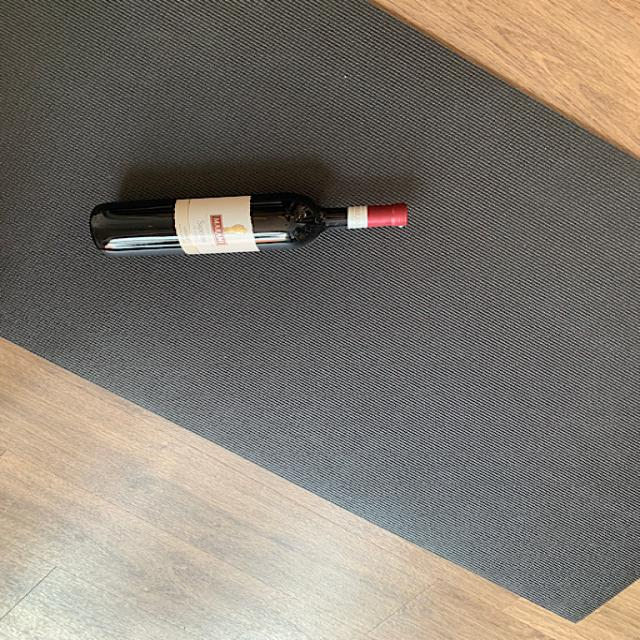litter: (86, 191, 414, 262)
